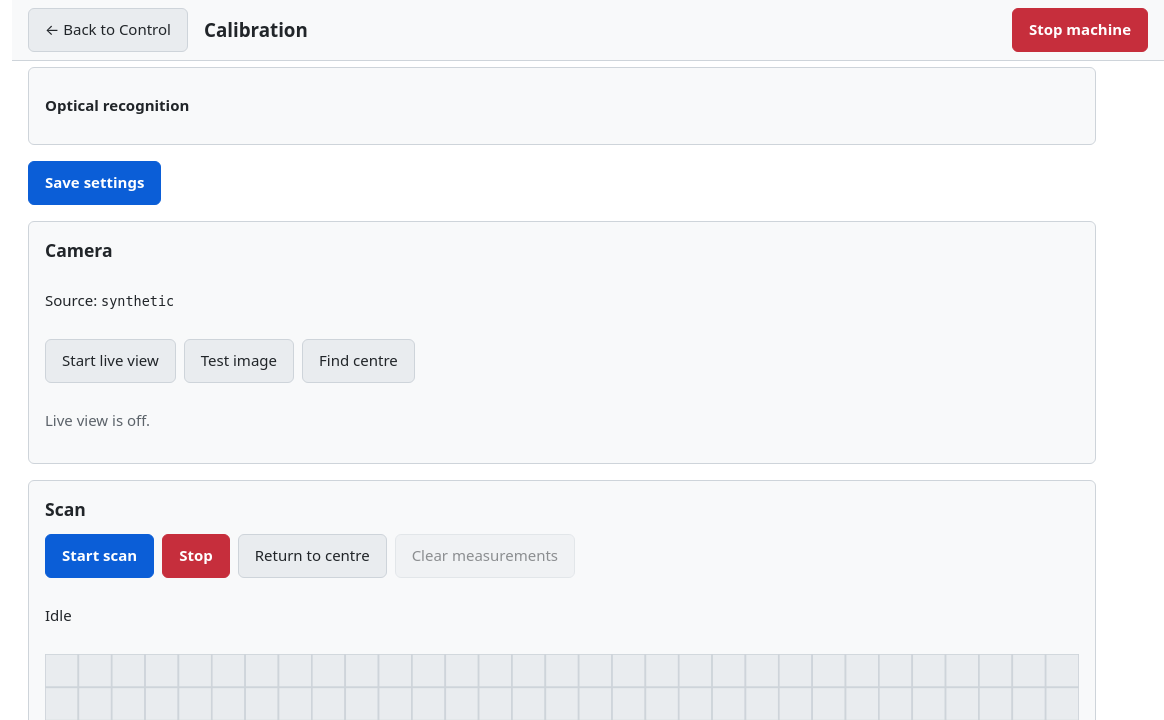
Test: optical camera › reports a test image with no square, and a failed capture
(page scrolled)
Click the button "Test image" at (239, 361), box [184, 339, 294, 383]
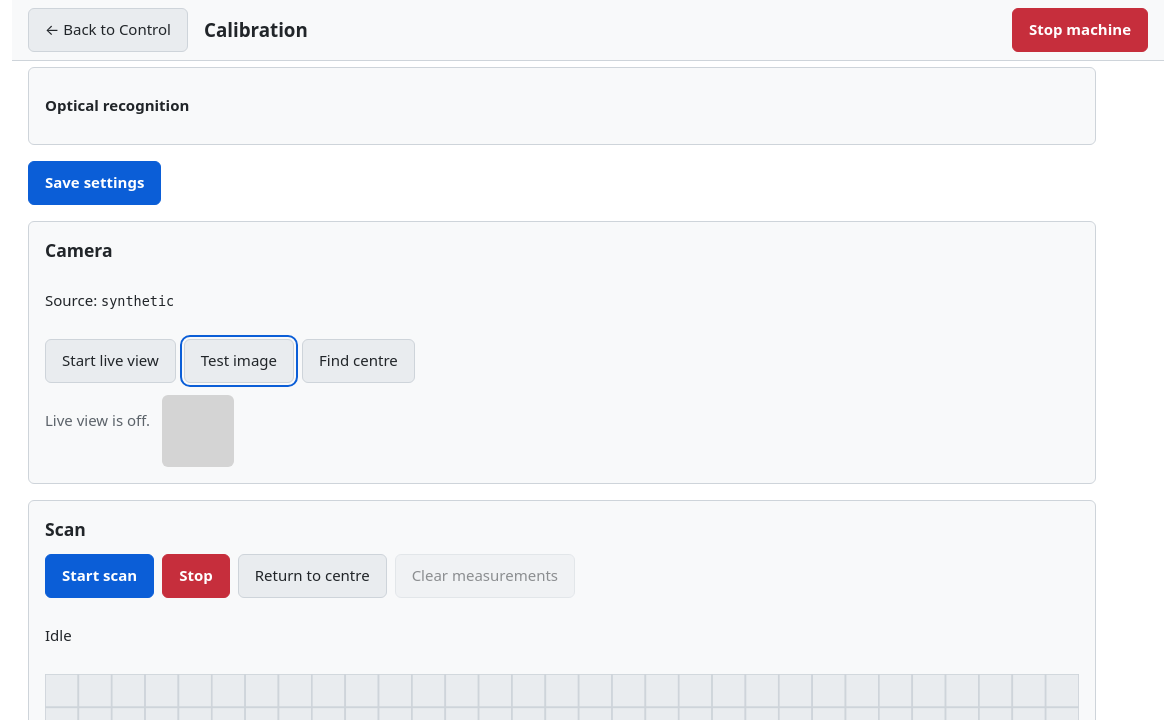
Click the button "Test image" at (239, 361), box [184, 339, 294, 383]
(page scrolled)
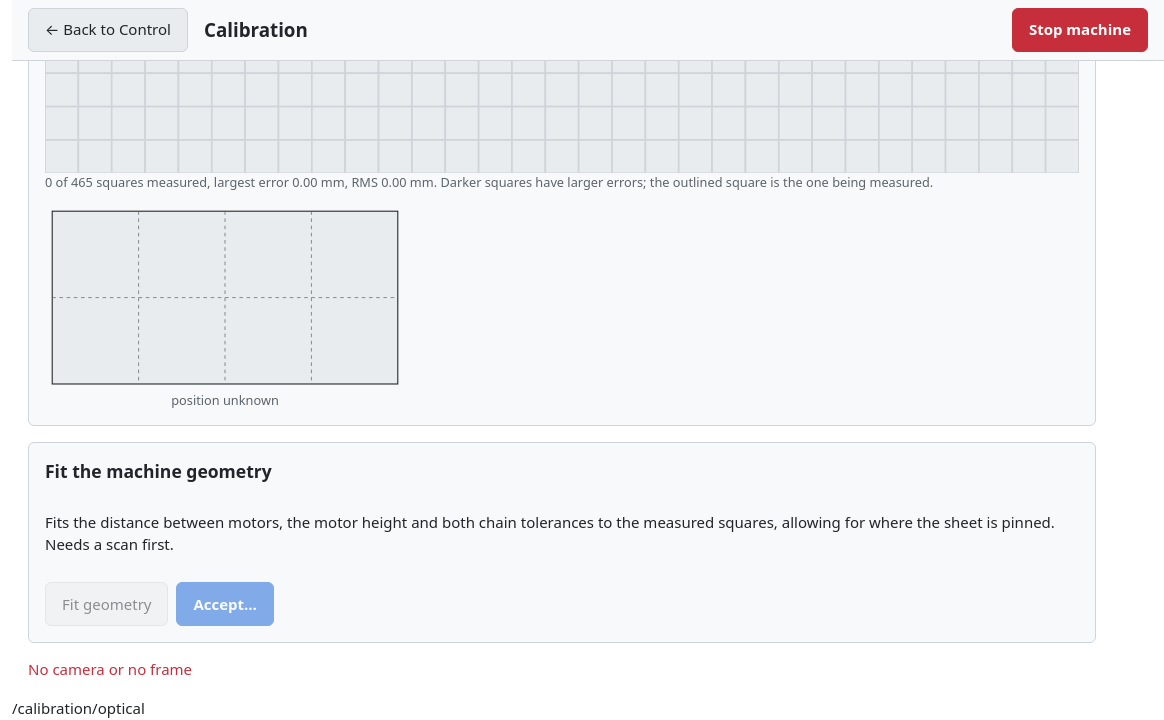
Now the message named "Calibration status" reads "No camera or no frame", box [28, 659, 192, 679]
